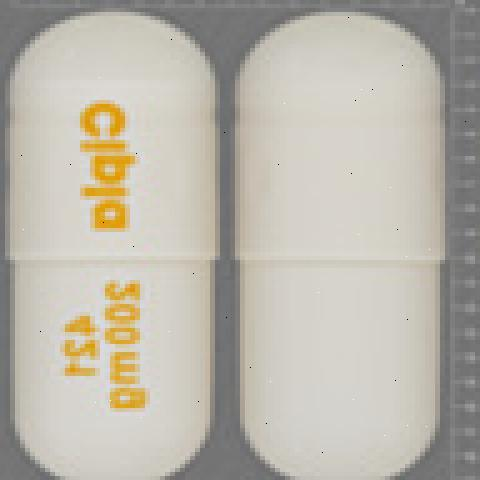Pill: (0, 10, 228, 480), (229, 8, 456, 480)
